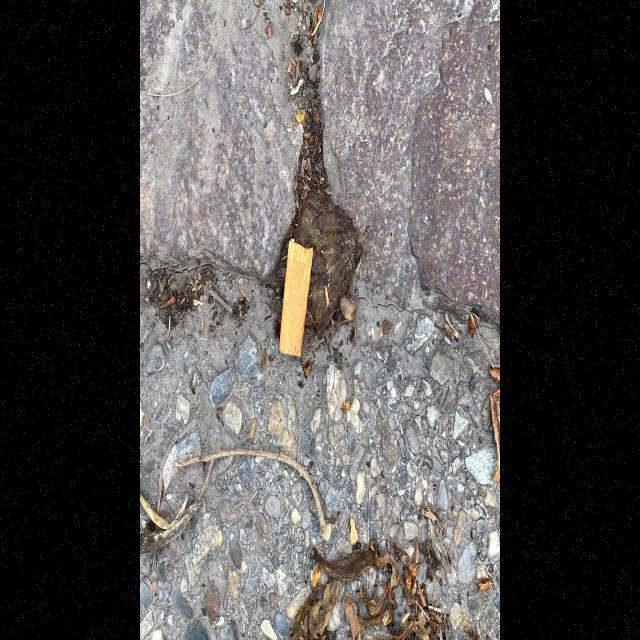other waste: (278, 238, 314, 358)
